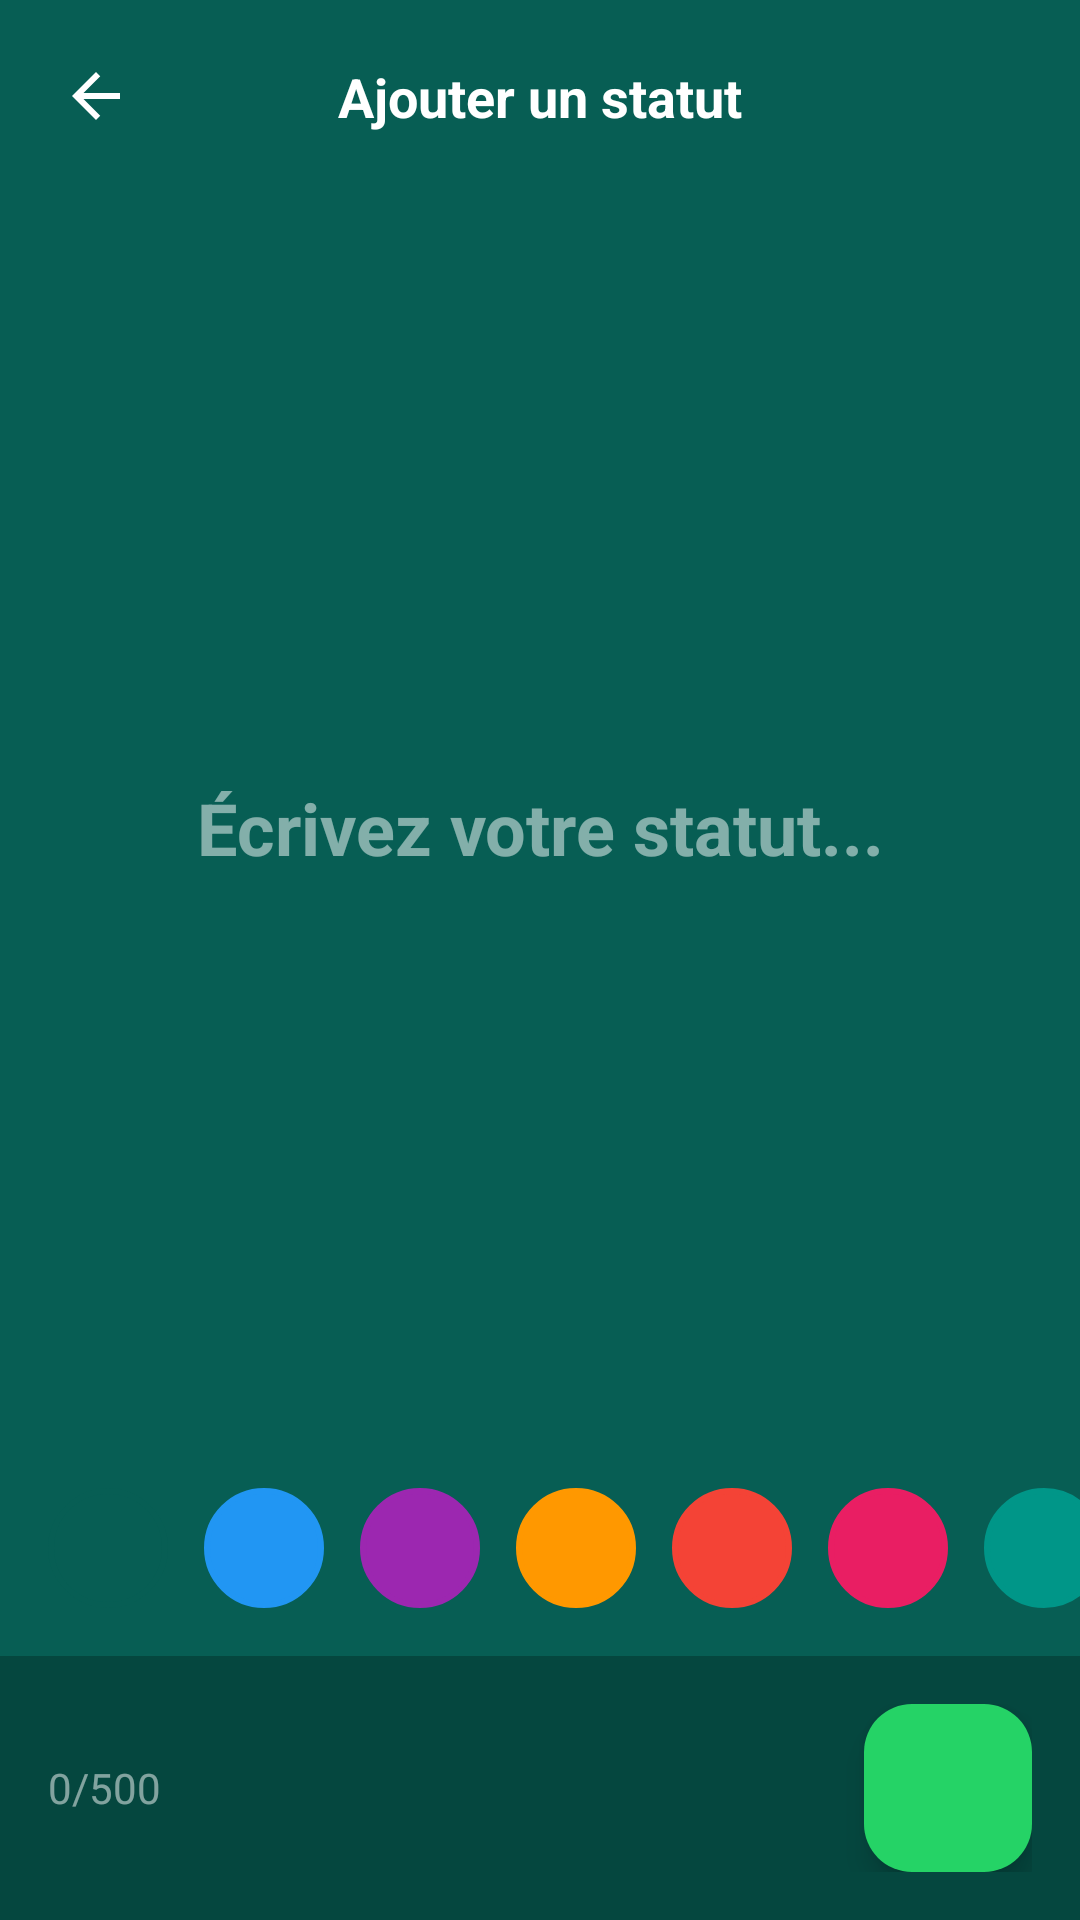

Icons on this 1080 x 1920 Android screen, each with the point to tap as (x,y):
Annuler: (96,96)
